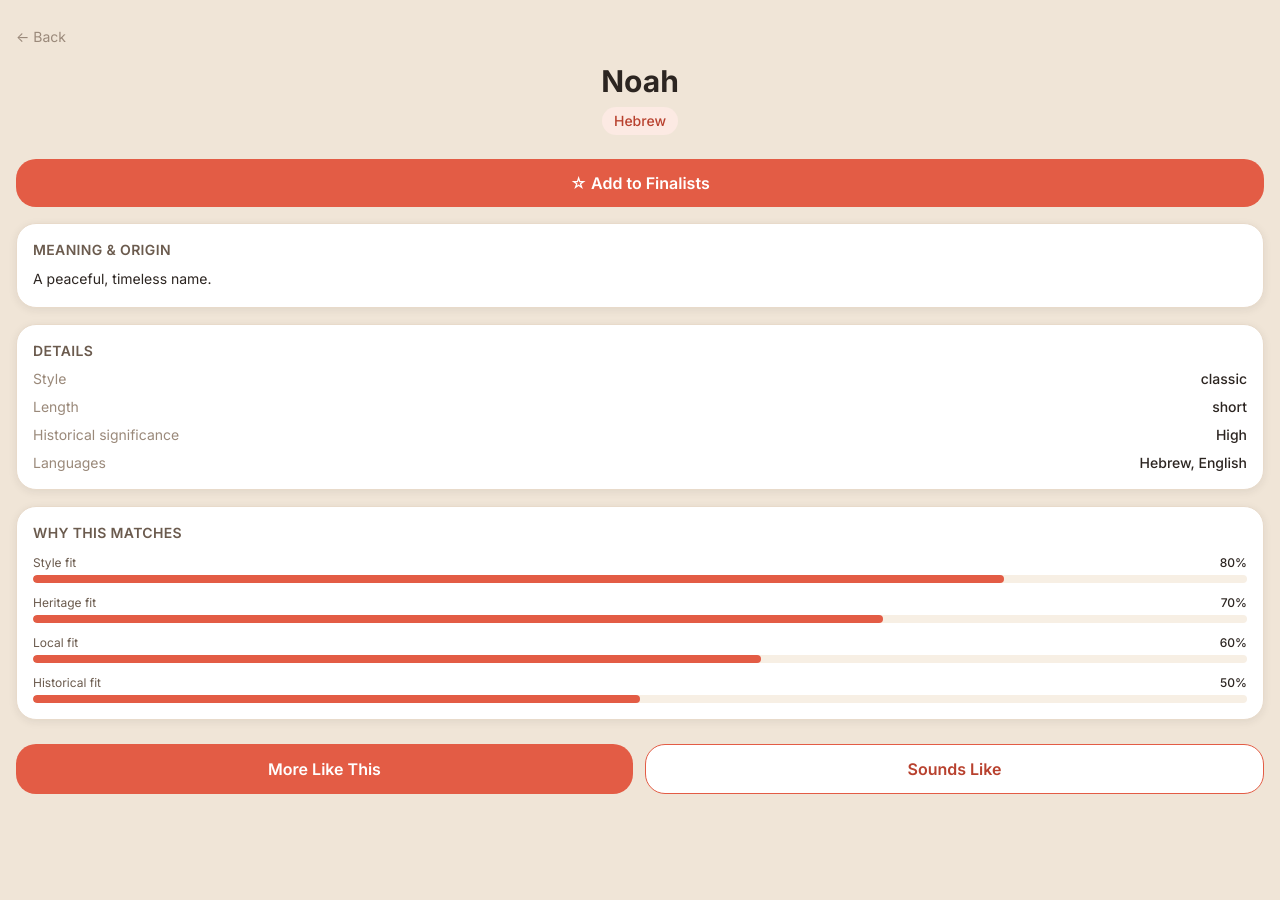
Test: MatchDetailPage pronunciation play control › renders a play control only for Sounds Like results that have audio (Req 7.5)
The image size is (1280, 900).
Expected: the heading "Noah" is shown, left=601, top=63, right=679, bottom=99
Click the button "Sounds Like". click: (954, 769)
box: left=645, top=744, right=1264, bottom=794
(page scrolled)
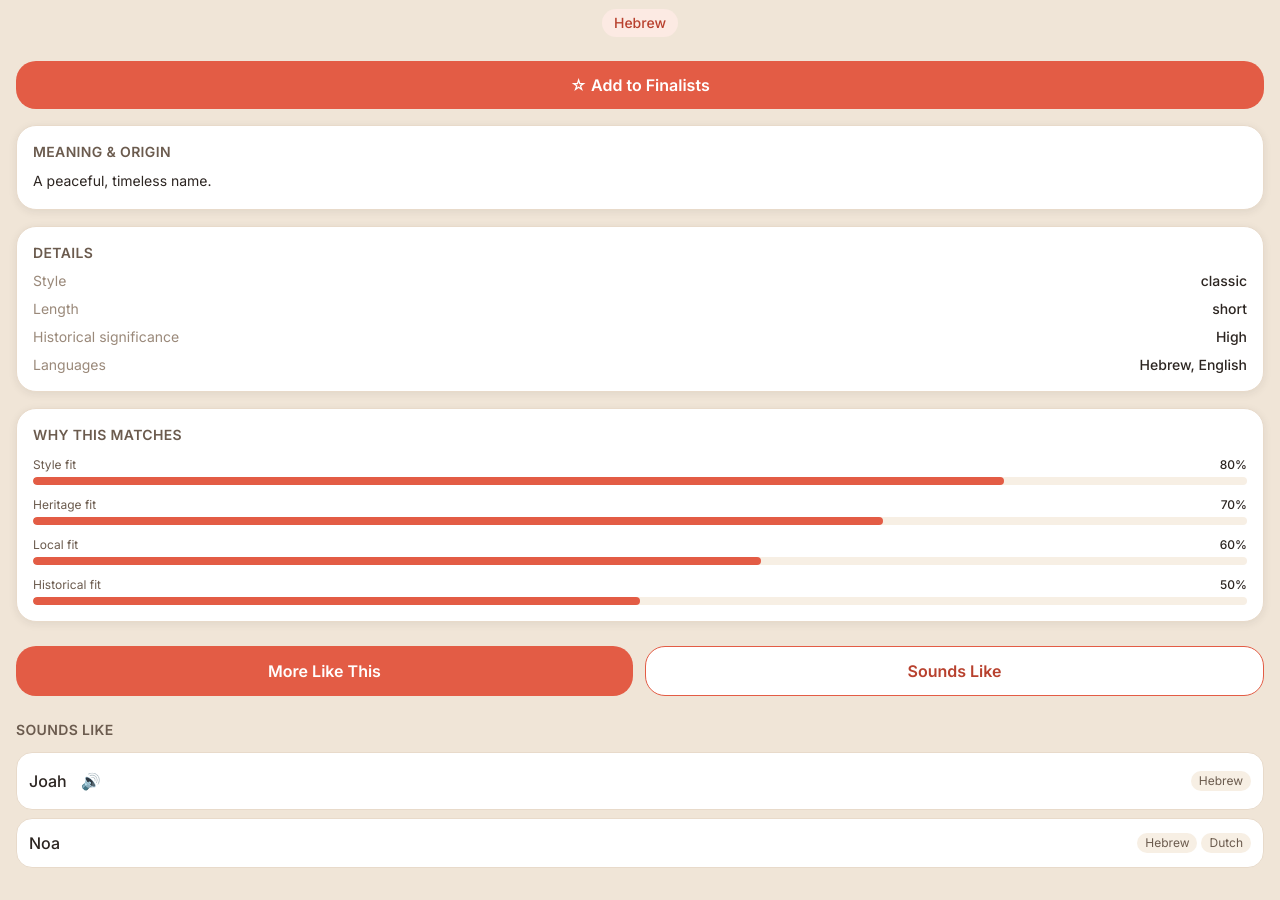
Expected: the text "Joah" is shown, left=29, top=769, right=67, bottom=793
Expected: the text "Noa" is shown, left=29, top=831, right=60, bottom=855
Expected: the number of buttons named "Play pronunciation" is 1, left=75, top=765, right=107, bottom=797
